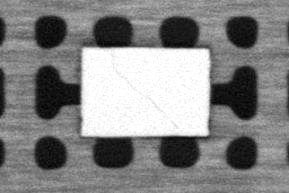DIE_CRACK: (110, 59, 178, 128)
